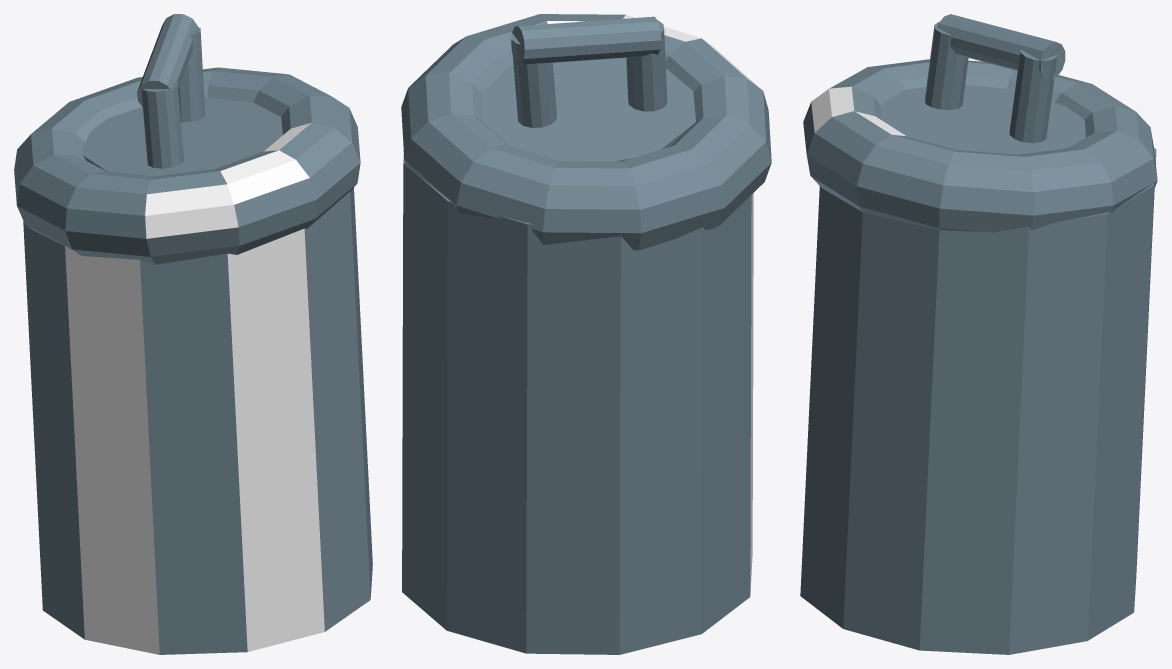
File: trash.obj
The picture shows the model from 3 angles, left to right: view 1: azimuth 30°, elevation 25°; view 2: azimuth 150°, elevation 25°; view 3: azimuth 270°, elevation 25°; orthographic projection. The views are drawn at different scales.
Visible parts, largest first — view 1: group1919868581, group847495799, group1146805951, group1261009035, group866810855, group1265088135; view 2: group1919868581, group847495799, group1146805951, group866810855, group1265088135, group1261009035; view 3: group1919868581, group847495799, group1146805951, group866810855, group1265088135, group1261009035.
Boxes of the visible parts, box(x1,y1,x2,y2) form: group1919868581: box(23, 188, 372, 654); group847495799: box(14, 67, 360, 264); group1146805951: box(82, 97, 282, 176); group1261009035: box(141, 81, 184, 168); group866810855: box(137, 14, 197, 107); group1265088135: box(178, 27, 204, 122); group1919868581: box(402, 153, 753, 654); group847495799: box(401, 14, 771, 250); group1146805951: box(481, 57, 695, 161); group866810855: box(511, 16, 661, 65); group1265088135: box(511, 33, 556, 127); group1261009035: box(626, 20, 667, 111); group1919868581: box(800, 148, 1156, 654); group847495799: box(803, 59, 1157, 232); group1146805951: box(880, 84, 1085, 154); group866810855: box(937, 14, 1065, 78); group1265088135: box(1009, 50, 1057, 143); group1261009035: box(925, 21, 968, 109).
Size of the model in its own units: 0.1884 by 0.3203 by 0.1859.
